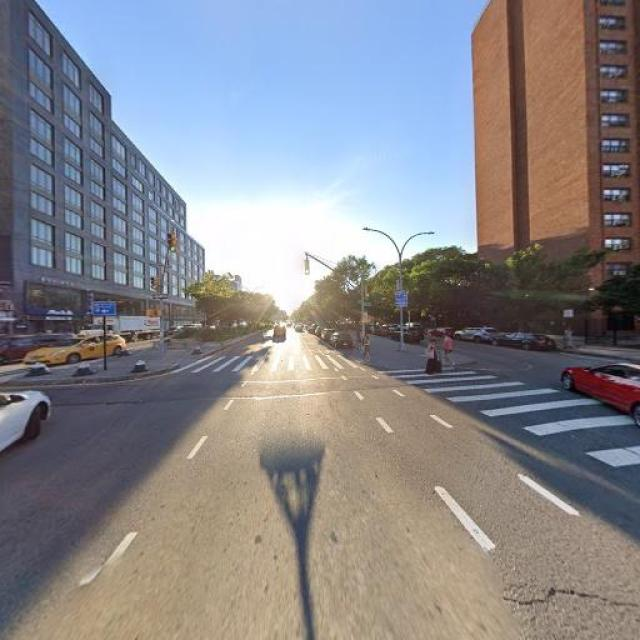Building: (479, 1, 640, 339), (1, 1, 117, 354)
